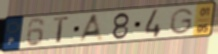4: (144, 8, 163, 39)
6: (25, 17, 46, 48)
8: (112, 12, 130, 40)
A: (76, 12, 106, 43)
G: (167, 7, 195, 36)
T: (51, 15, 72, 46)
